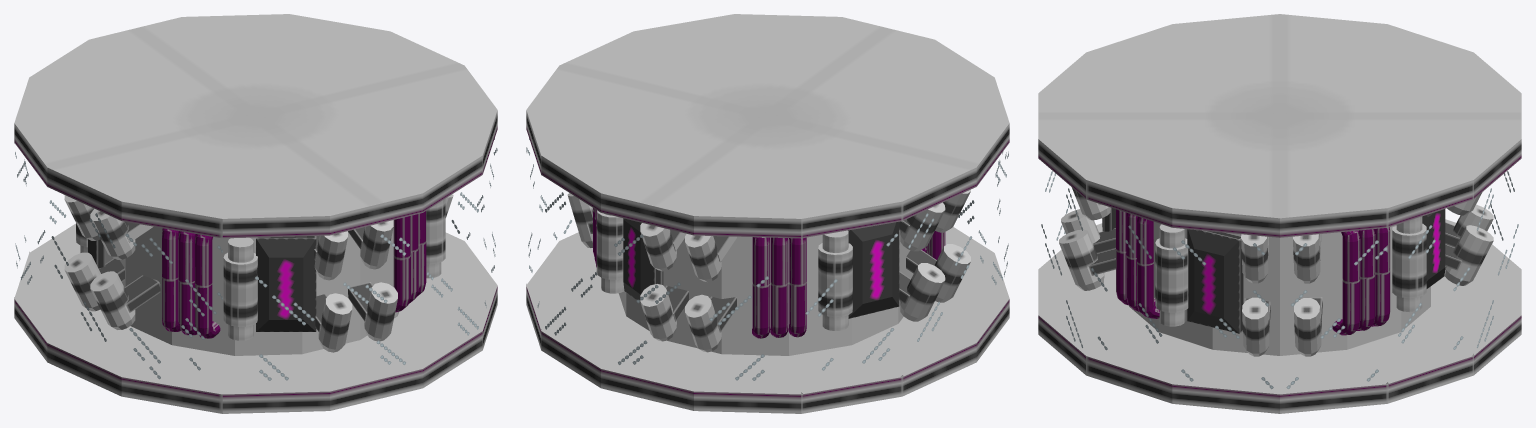
File: matter_gigafactory.obj
3 renders of one model, left to right at view 1: azimuth 30°, elevation 25°; view 2: azimuth 150°, elevation 25°; view 3: azimuth 270°, elevation 25°, orthographic.
Parts seen in each view (by area): view 1: cylinder; view 2: cylinder; view 3: cylinder.
Boxes of the visible parts, x1=… form: cylinder: x1=14, y1=14, x2=497, y2=413; cylinder: x1=526, y1=14, x2=1009, y2=413; cylinder: x1=1038, y1=14, x2=1521, y2=413.
Size of the model in its own units: 7 by 3.12 by 7.
